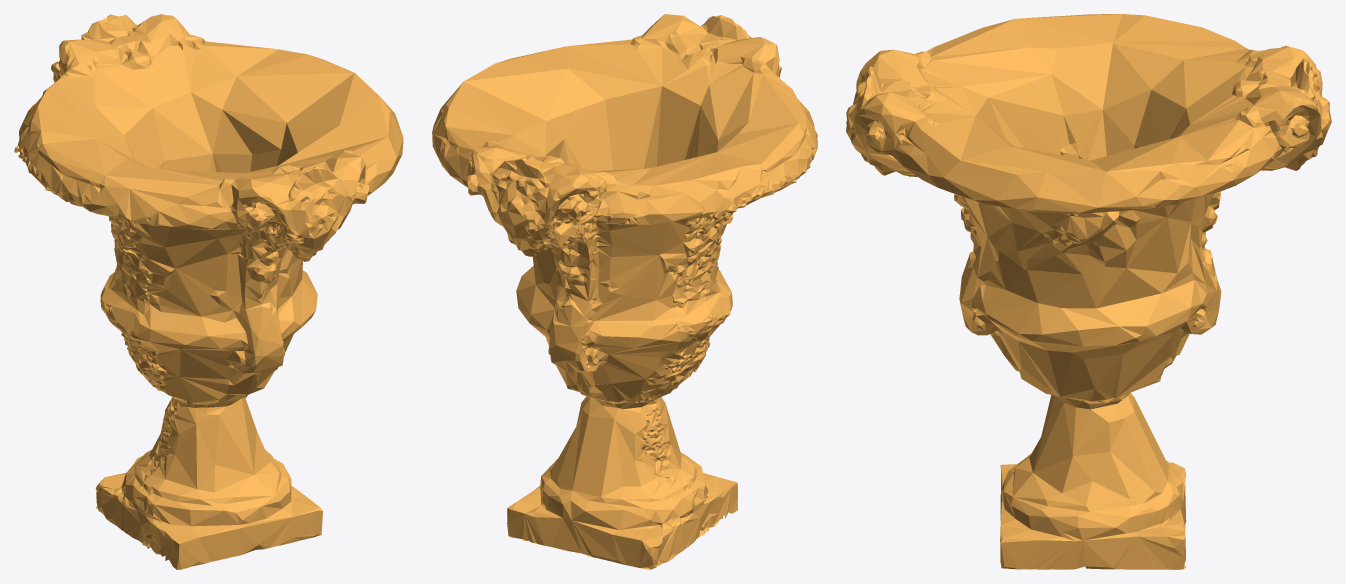
File: vase_lowpoly.glb
3 views of the same model, side by side, from view 1: azimuth 30°, elevation 25°; view 2: azimuth 150°, elevation 25°; view 3: azimuth 270°, elevation 25° (orthographic). The views are drawn at different scales.
Parts seen in each view (by area): view 1: Mesh1__auto__0; view 2: Mesh1__auto__0; view 3: Mesh1__auto__0.
Part boxes in pixels (x1,y1,x2,y2): Mesh1__auto__0: (14, 14, 403, 569); Mesh1__auto__0: (432, 14, 817, 569); Mesh1__auto__0: (846, 14, 1331, 569).
Size of the model in its own units: 29.72 by 36.88 by 34.55.
